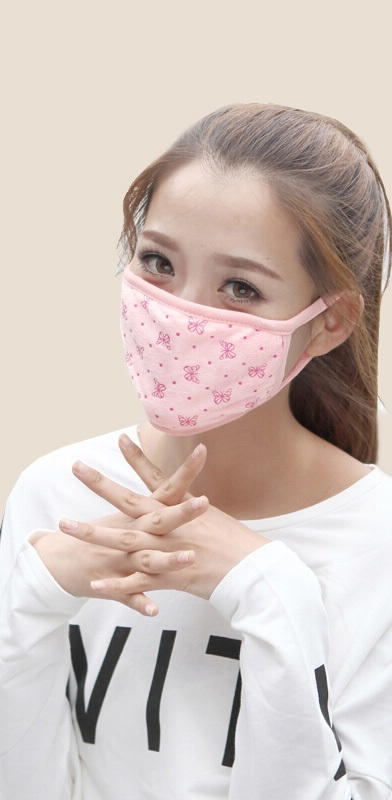face_mask: (125, 152, 296, 432)
